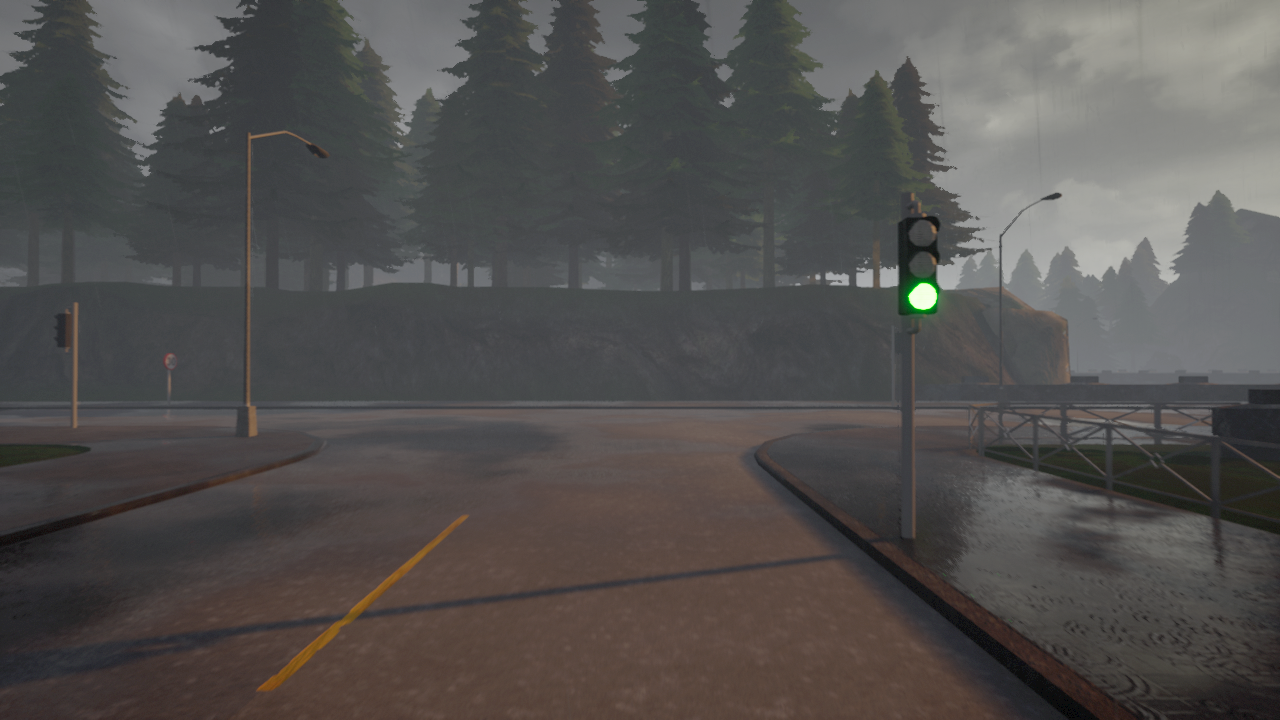green: (894, 212, 940, 317)
